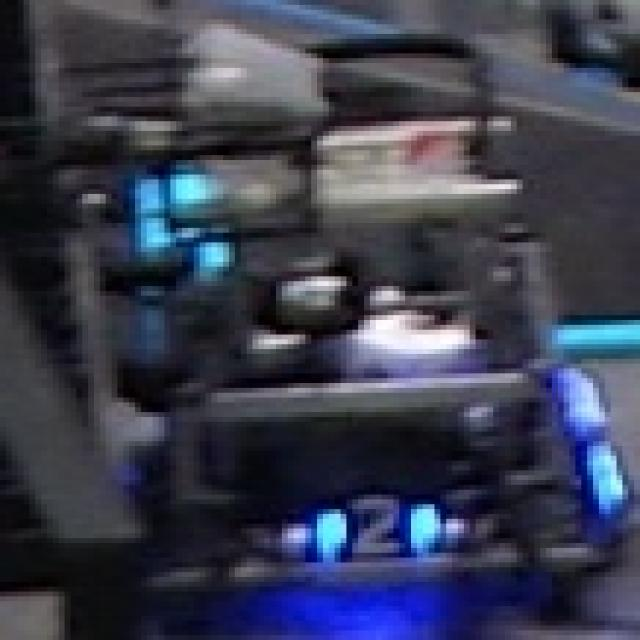B2: (306, 492, 446, 565)
